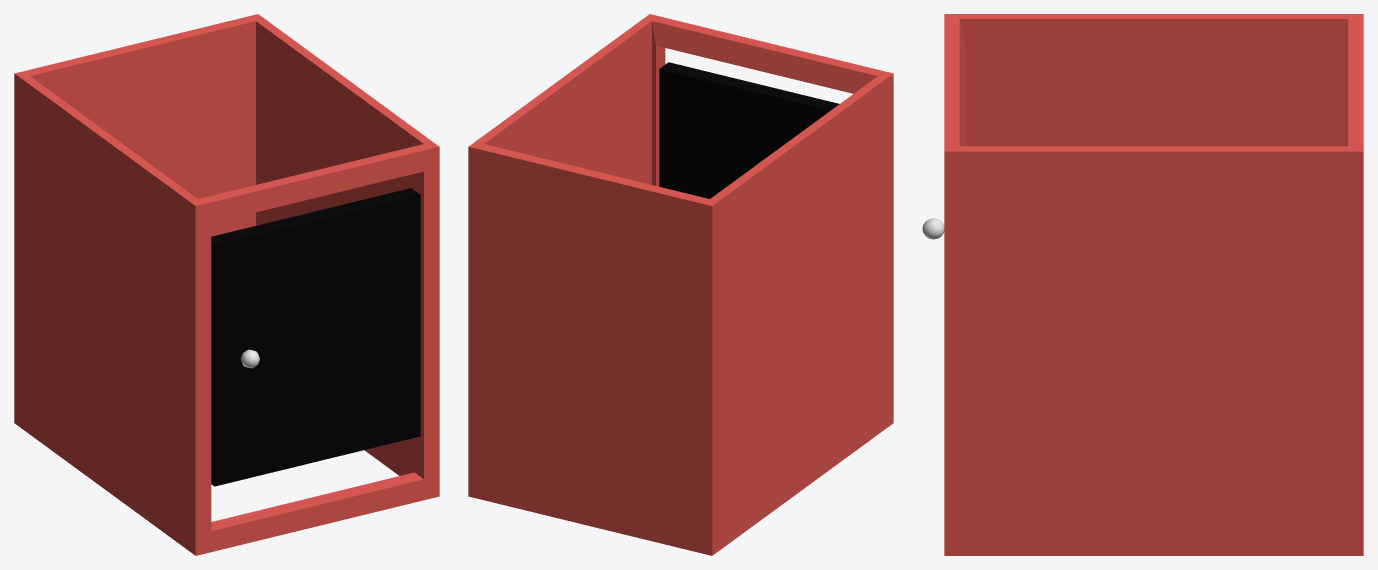
File: bathroom_stall.fbx
The picture shows the model from 3 angles, left to right: view 1: azimuth 30°, elevation 25°; view 2: azimuth 150°, elevation 25°; view 3: azimuth 270°, elevation 25°; orthographic projection. The views are drawn at different scales.
Parts seen in each view (by area): view 1: Cube.056, Sphere; view 2: Cube.056, Sphere; view 3: Cube.056.
Boxes of the visible parts, x1,y1,x2,y2 form: Cube.056: [14, 14, 439, 555]; Sphere: [211, 188, 420, 486]; Cube.056: [468, 14, 893, 555]; Sphere: [659, 62, 839, 198]; Cube.056: [944, 14, 1363, 555].
Bounding box in the file's own units: 433 × 594 × 588.
